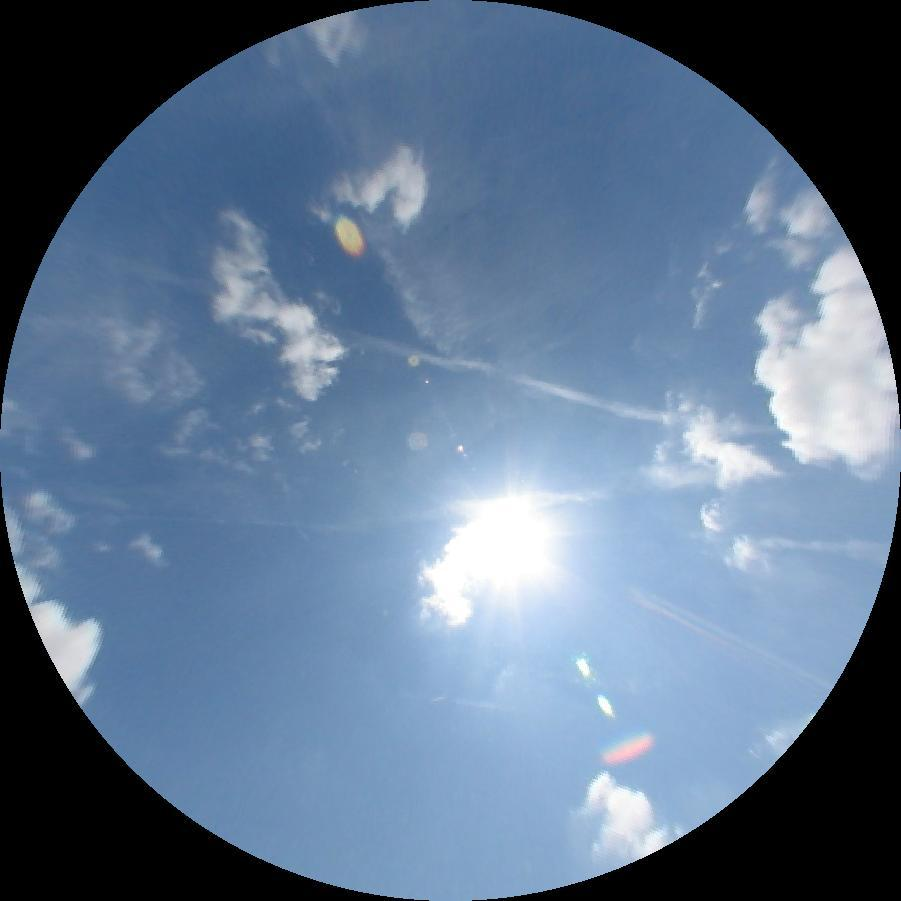contrail veryold: (96, 252, 783, 458), (385, 483, 606, 525)
parasite: (6, 509, 297, 526)
sun: (483, 504, 553, 568)
unknow: (755, 525, 887, 568)
